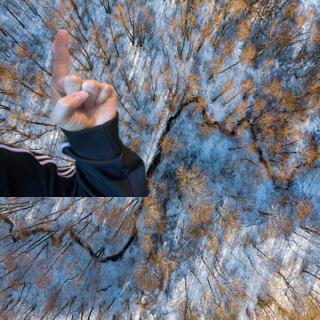IRRITATED: (45, 25, 120, 137)
